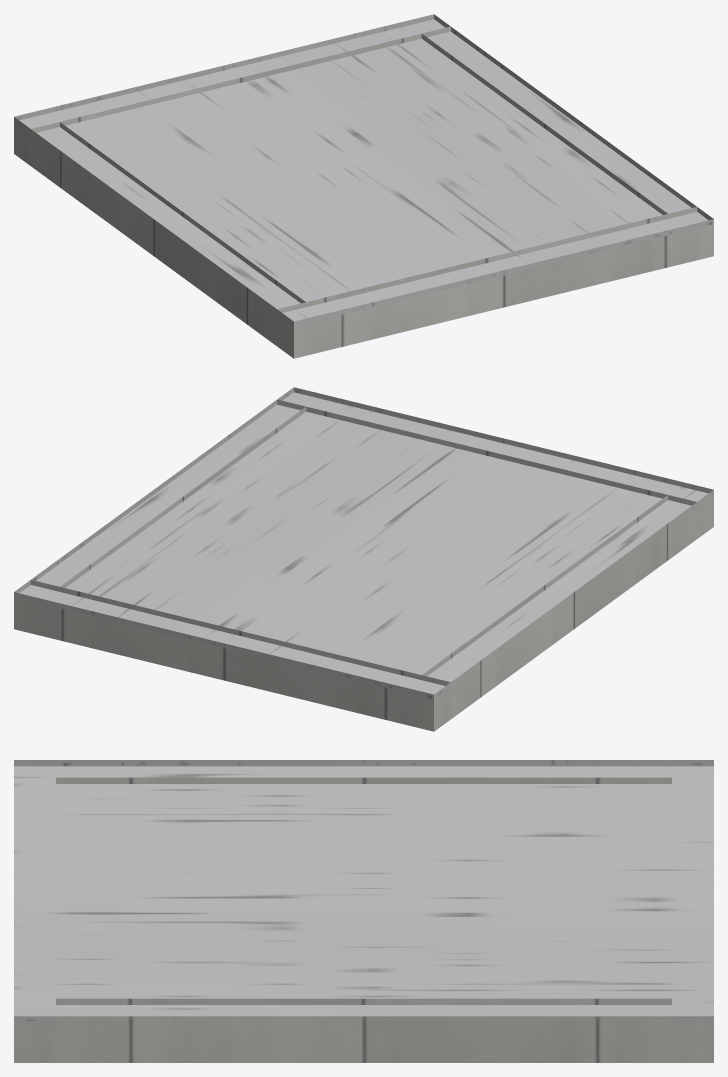
File: SM_LFD_CeilingCoffer_Aisle.fbx
3 views of the same model, one above another, from view 1: azimuth 30°, elevation 25°; view 2: azimuth 150°, elevation 25°; view 3: azimuth 270°, elevation 25° (orthographic). The views are drawn at different scales.
Parts seen in each view (by area): view 1: SM_LFD_CeilingCoffer_Aisle; view 2: SM_LFD_CeilingCoffer_Aisle; view 3: SM_LFD_CeilingCoffer_Aisle.
Part boxes in pixels (x1,y1,x2,y2): SM_LFD_CeilingCoffer_Aisle: [14, 14, 713, 358]; SM_LFD_CeilingCoffer_Aisle: [14, 387, 713, 731]; SM_LFD_CeilingCoffer_Aisle: [14, 760, 713, 1062].
Size of the model in its own units: 2.6 by 0.22 by 3.
